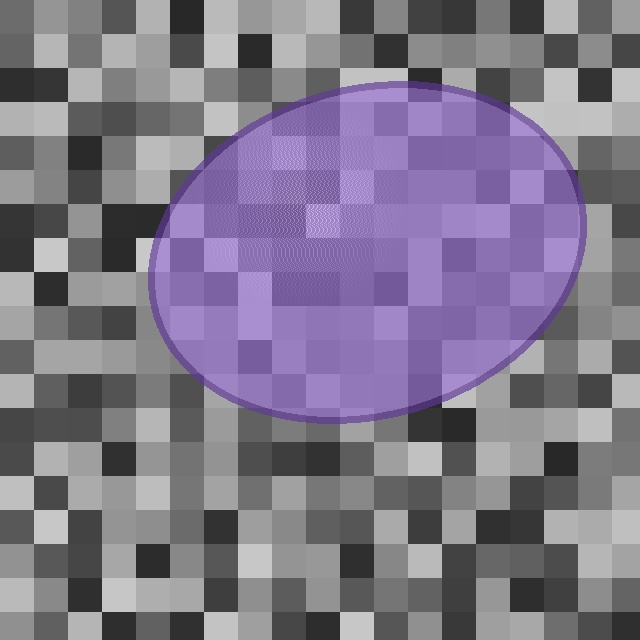lens: (151, 85, 583, 419)
